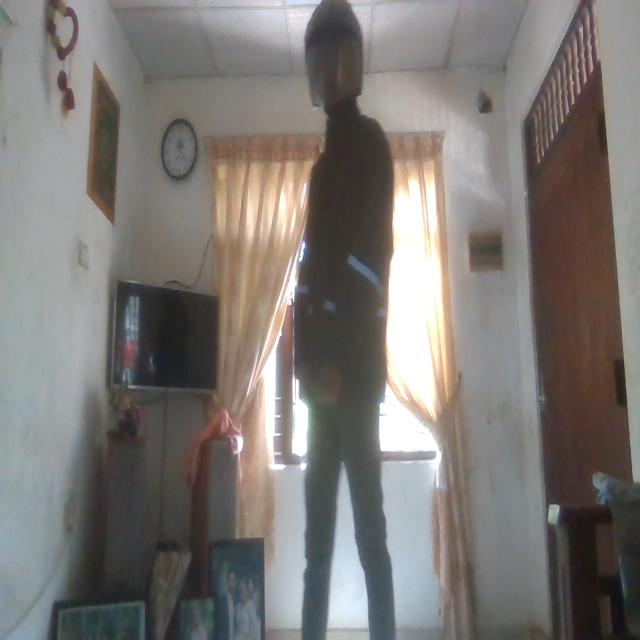Helmet_Wearer: (300, 1, 368, 123)
Jacket_Wearer: (298, 112, 400, 407)
Person: (286, 0, 415, 639)
